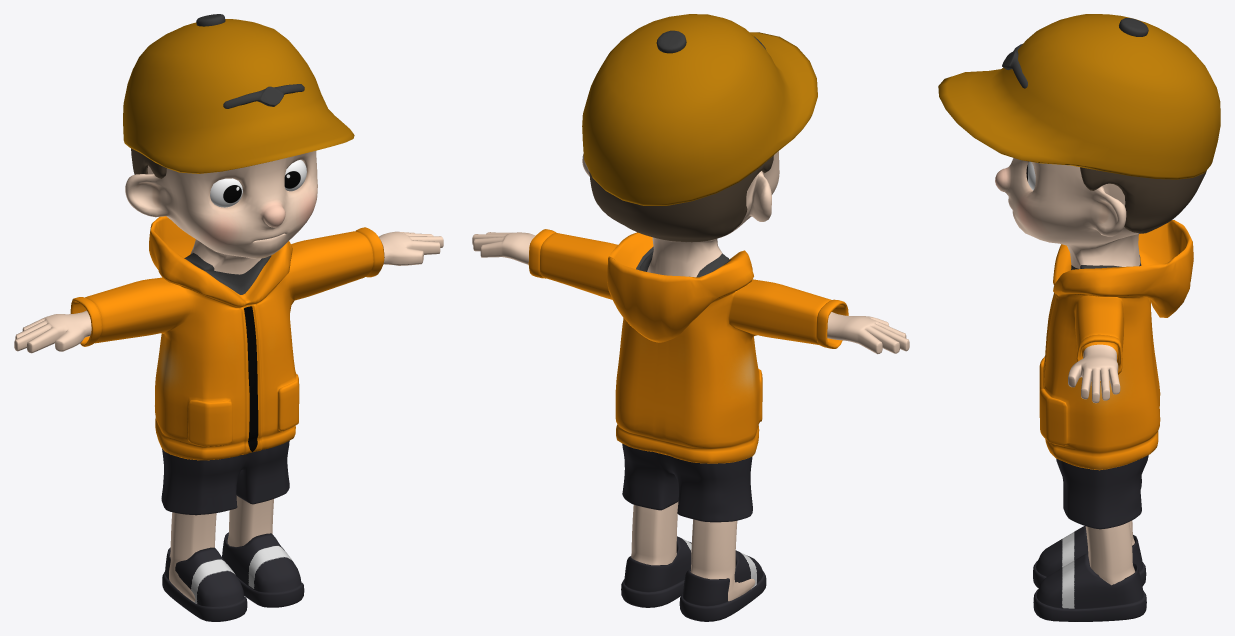
The model's file is PersonajeNiño_SinRig.fbx.
3 views of the same model, side by side, from view 1: azimuth 30°, elevation 25°; view 2: azimuth 150°, elevation 25°; view 3: azimuth 270°, elevation 25° (orthographic).
Visible parts, largest first — view 1: body, mux, giay_trai, giay_phai, logoo, trai; view 2: body, mux, toc, giay_trai, giay_phai; view 3: body, mux, giay_phai, toc, giay_trai, logoo, chop.
Boxes of the visible parts, x1,y1,x2,y2 form: body: [14, 151, 443, 601]; mux: [123, 19, 354, 173]; giay_trai: [162, 547, 247, 621]; giay_phai: [222, 532, 304, 607]; logoo: [223, 84, 304, 108]; trai: [210, 178, 242, 207]; body: [472, 151, 909, 601]; mux: [582, 14, 817, 205]; toc: [589, 155, 773, 242]; giay_trai: [679, 550, 766, 621]; giay_phai: [621, 536, 691, 607]; body: [995, 158, 1193, 585]; mux: [938, 14, 1220, 179]; giay_phai: [1033, 553, 1146, 621]; toc: [1080, 167, 1206, 233]; giay_trai: [1033, 526, 1146, 588]; logoo: [1002, 44, 1027, 88]; chop: [1119, 18, 1148, 36].
Bounding box in the file's own units: 10.45 × 13.21 × 5.87.
